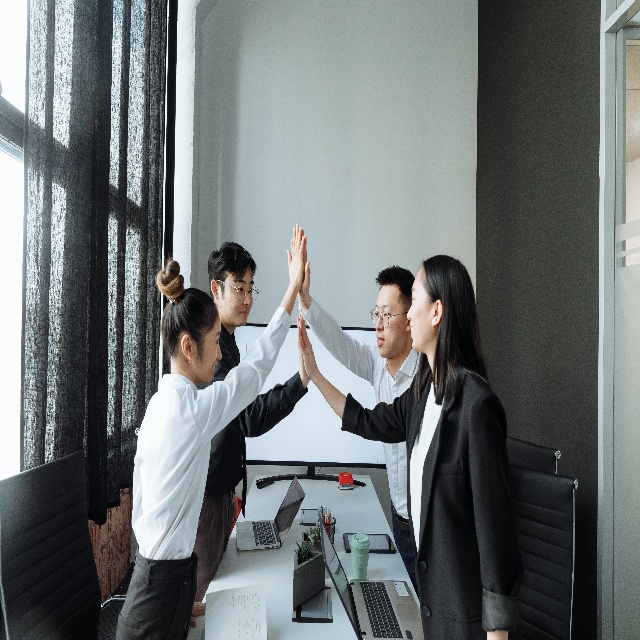Gafas: (215, 279, 259, 303), (370, 308, 409, 328)
Sin_guantes: (290, 224, 311, 297), (298, 314, 318, 379), (295, 315, 312, 388), (286, 222, 304, 290), (189, 602, 207, 629)
